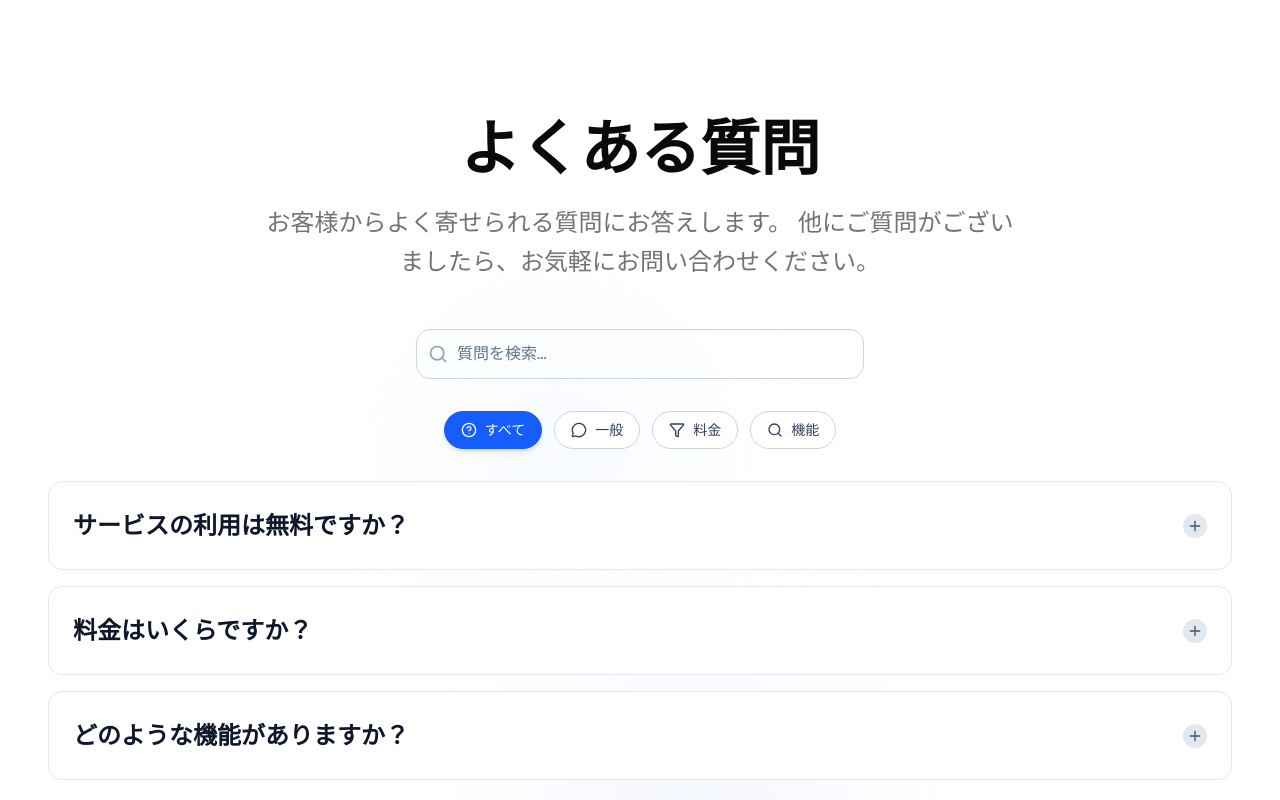
Scenario: FAQSection › 検索機能が正常に動作する
Type "料金" into the field with test id "faq-search-input" at (640, 354), box [416,329,864,379]
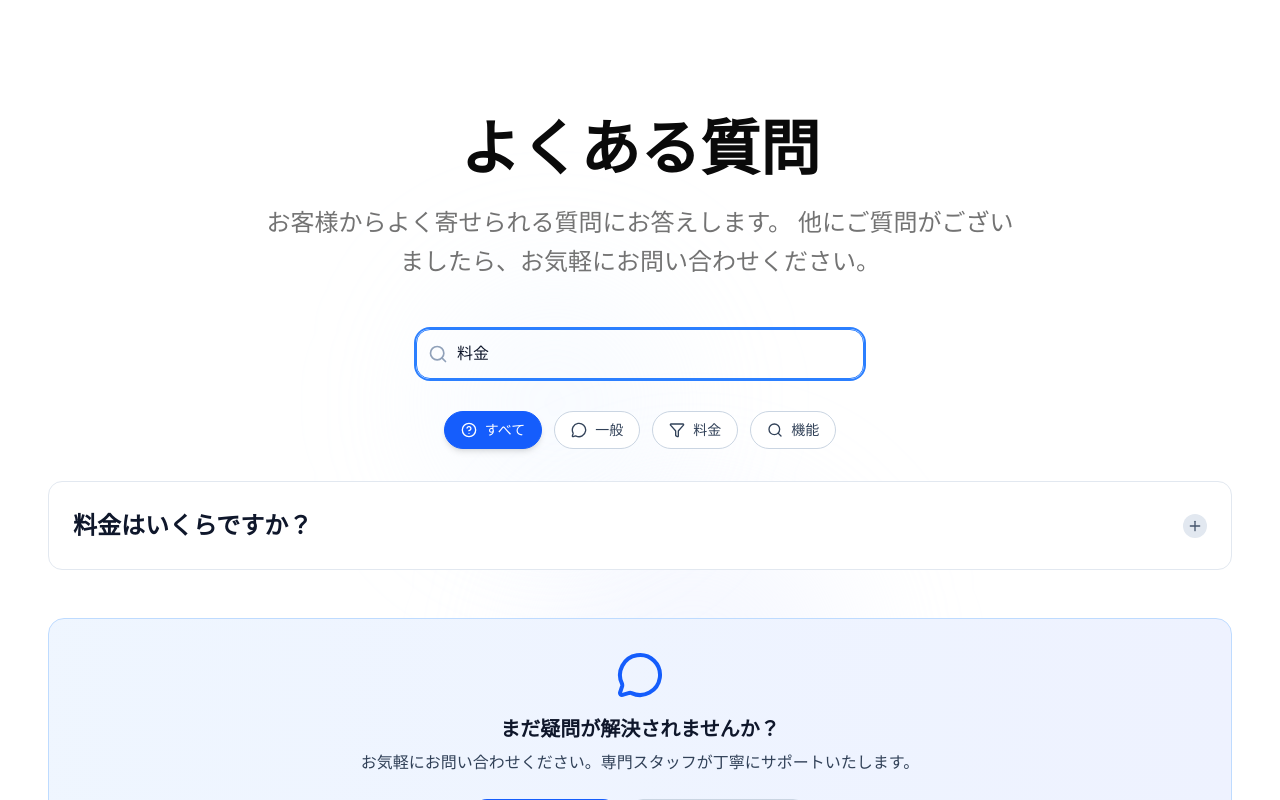
Expected: the heading "料金はいくらですか？" is shown, [73,506,328,545]
Now the button "サービスの利用は無料ですか？" is gone
